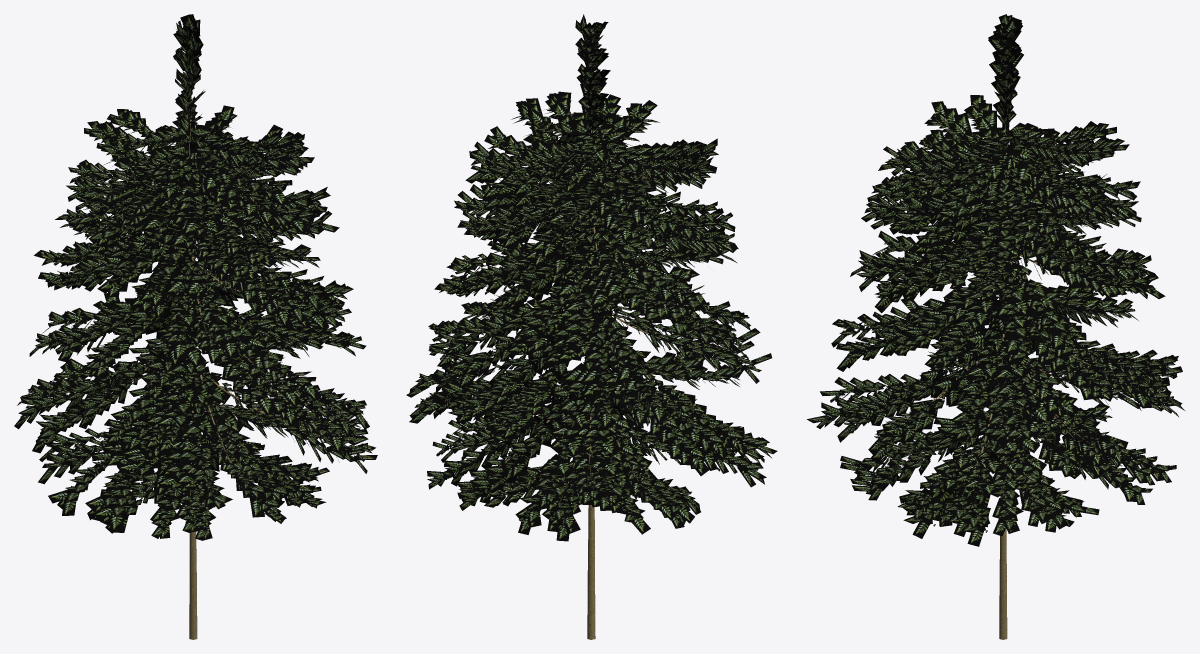
Rendered from pine.glb.
The picture shows the model from 3 angles, left to right: view 1: azimuth 30°, elevation 25°; view 2: azimuth 150°, elevation 25°; view 3: azimuth 270°, elevation 25°; orthographic projection.
Parts seen in each view (by area): view 1: leaves.002, tree.001; view 2: leaves.002, tree.001; view 3: leaves.002, tree.001.
Part boxes in pixels (x1,y1,x2,y2): leaves.002: (14, 14, 377, 540); tree.001: (74, 72, 328, 639); leaves.002: (406, 14, 777, 541); tree.001: (448, 71, 684, 639); leaves.002: (807, 14, 1184, 546); tree.001: (869, 66, 1136, 639).
Bounding box in the file's own units: 5.78 × 10.86 × 6.01.
2 materials, 2 textured.
